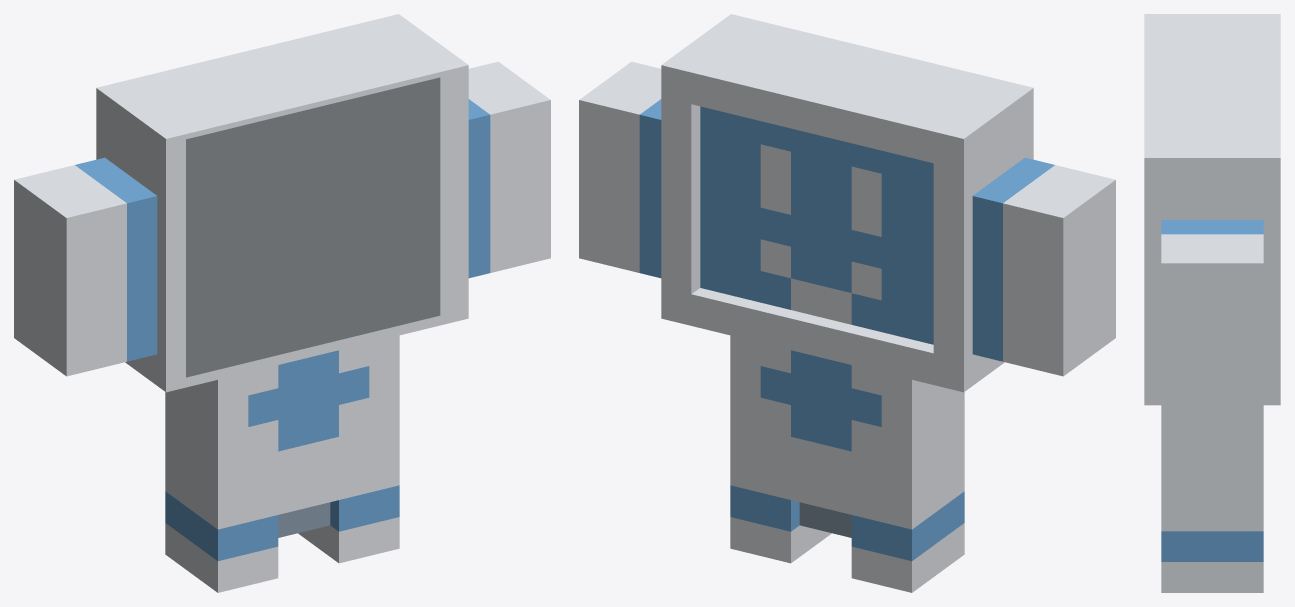
The model's file is Bob.fbx.
The picture shows the model from 3 angles, left to right: view 1: azimuth 30°, elevation 25°; view 2: azimuth 150°, elevation 25°; view 3: azimuth 270°, elevation 25°; orthographic projection. The views are drawn at different scales.
Parts seen in each view (by area): view 1: Bob, Cube.001; view 2: Bob; view 3: Bob.
Boxes of the visible parts, x1=… form: Bob: x1=14, y1=14, x2=550, y2=592; Cube.001: x1=186, y1=77, x2=440, y2=377; Bob: x1=579, y1=14, x2=1115, y2=592; Bob: x1=1144, y1=14, x2=1280, y2=592.
Size of the model in its own units: 1600 by 1500 by 400.
